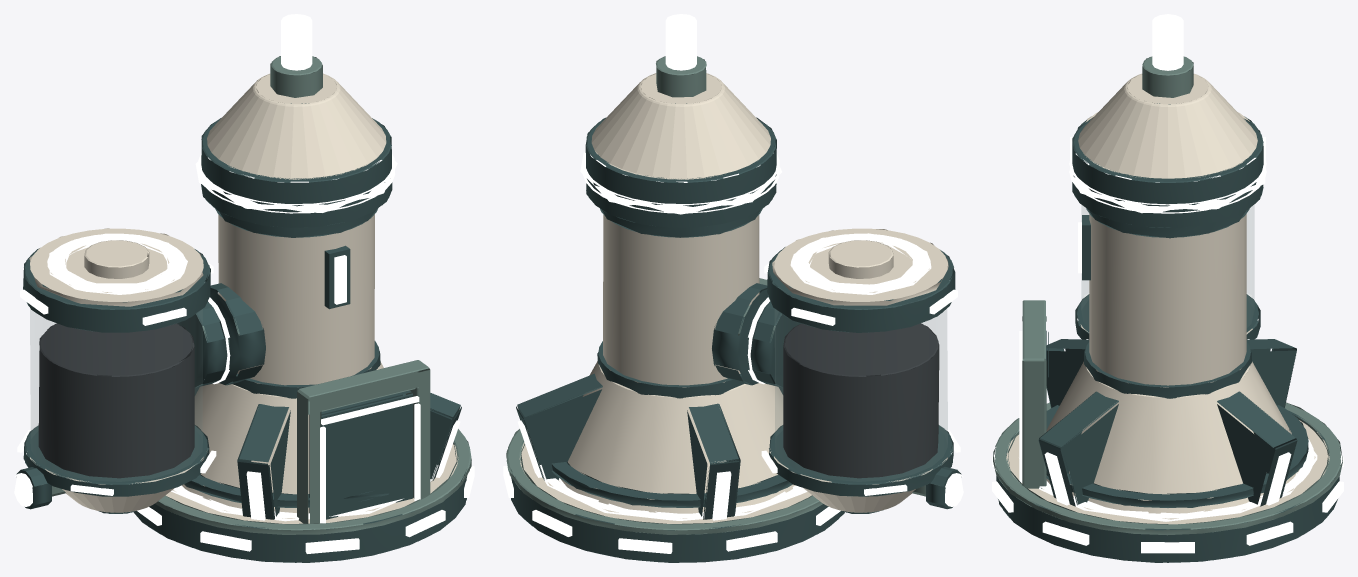
Rendered from Vat_T1_lab.glb.
3 views of the same model, side by side, from view 1: azimuth 30°, elevation 25°; view 2: azimuth 150°, elevation 25°; view 3: azimuth 270°, elevation 25° (orthographic).
Visible parts, largest first — view 1: Vat_T1; view 2: Vat_T1; view 3: Vat_T1.
Part boxes in pixels (bbox=[...]): Vat_T1: bbox=[14, 14, 474, 562]; Vat_T1: bbox=[503, 14, 963, 562]; Vat_T1: bbox=[992, 14, 1343, 562].
Size of the model in its own units: 4.88 by 5.21 by 3.47.
